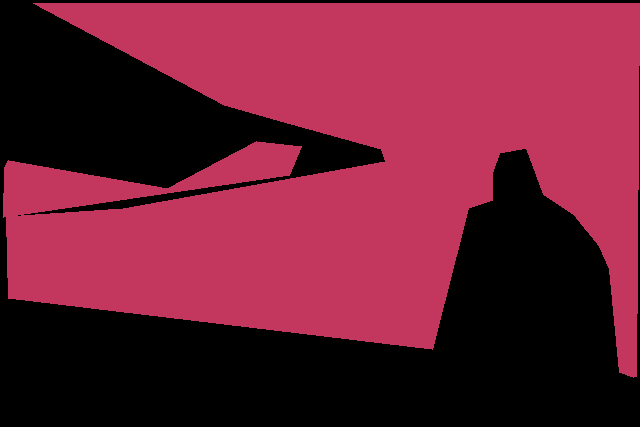Airplane: (6, 3, 639, 378), (3, 141, 302, 218)
